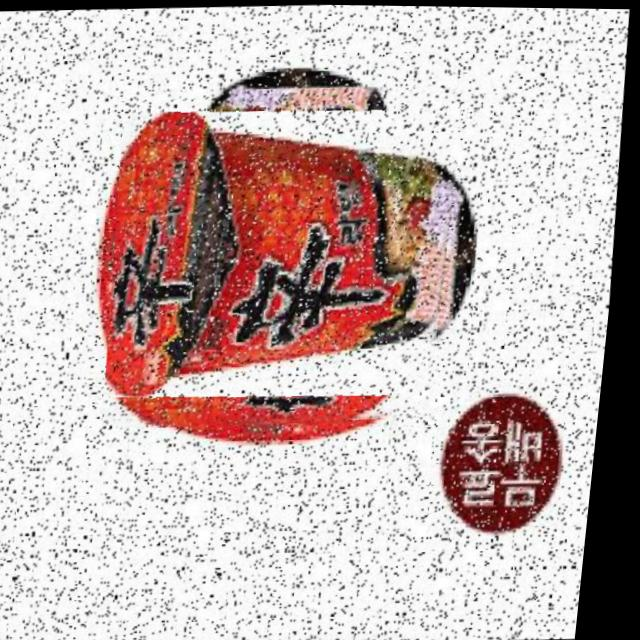Miscellaneous: (98, 79, 480, 434)
